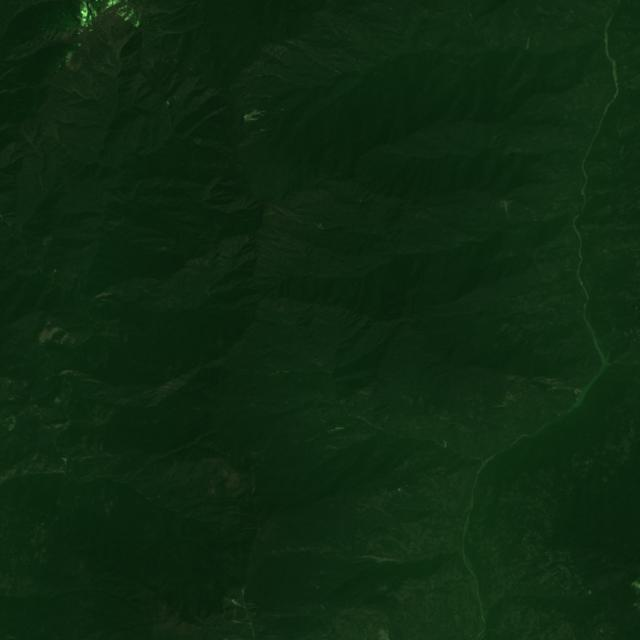landslides: (38, 326, 56, 345), (226, 625, 252, 636), (359, 554, 385, 563), (226, 616, 249, 625), (562, 31, 574, 45), (93, 291, 114, 299), (499, 198, 509, 214), (384, 558, 406, 565), (565, 386, 580, 396), (225, 237, 232, 257), (468, 365, 476, 380), (273, 64, 283, 75), (575, 30, 585, 40)
